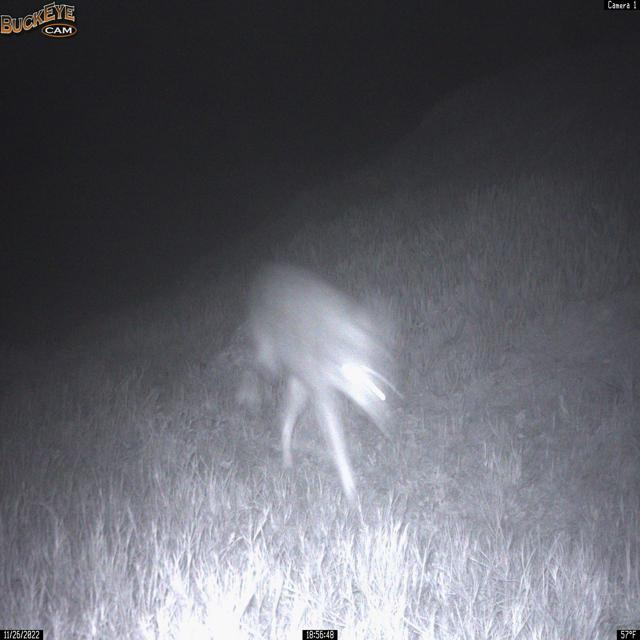coyote: (232, 259, 405, 506)
